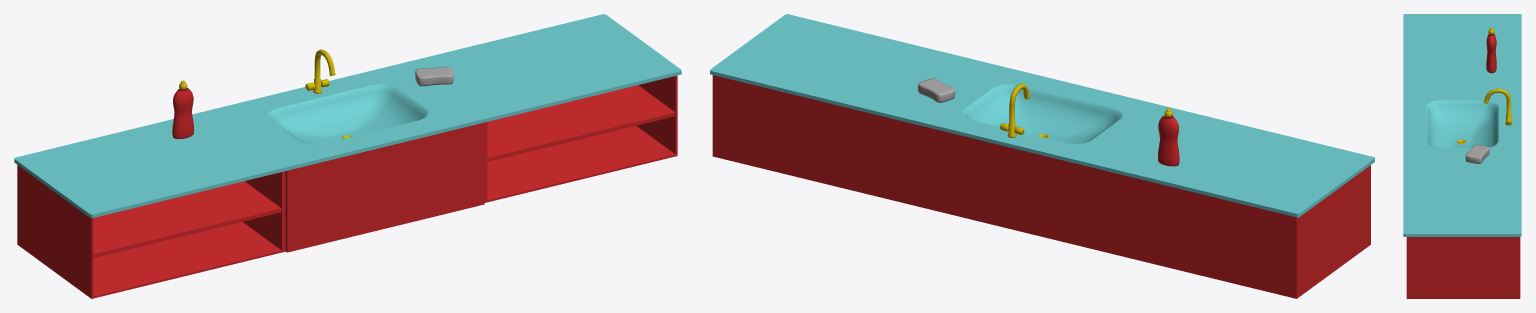
Rendered from bathroom_counter.fbx.
3 views of the same model, side by side, from view 1: azimuth 30°, elevation 25°; view 2: azimuth 150°, elevation 25°; view 3: azimuth 270°, elevation 25° (orthographic). The views are drawn at different scales.
Visible parts, largest first — view 1: HSHP_MOD_Bathroom_counter_01, HSHP_MOD_Washing_liquid, HSHP_MOD_Washing_sponge; view 2: HSHP_MOD_Bathroom_counter_01, HSHP_MOD_Washing_liquid, HSHP_MOD_Washing_sponge; view 3: HSHP_MOD_Bathroom_counter_01, HSHP_MOD_Washing_liquid, HSHP_MOD_Washing_sponge.
Part boxes in pixels (x1=…): HSHP_MOD_Bathroom_counter_01: x1=14, y1=14, x2=681, y2=298; HSHP_MOD_Washing_liquid: x1=172, y1=80, x2=193, y2=138; HSHP_MOD_Washing_sponge: x1=415, y1=66, x2=453, y2=86; HSHP_MOD_Bathroom_counter_01: x1=710, y1=14, x2=1374, y2=298; HSHP_MOD_Washing_liquid: x1=1158, y1=108, x2=1179, y2=166; HSHP_MOD_Washing_sponge: x1=918, y1=78, x2=955, y2=102; HSHP_MOD_Bathroom_counter_01: x1=1403, y1=14, x2=1521, y2=298; HSHP_MOD_Washing_liquid: x1=1486, y1=27, x2=1496, y2=73; HSHP_MOD_Washing_sponge: x1=1465, y1=145, x2=1489, y2=163.
Bounding box in the file's own units: 125 × 28.46 × 28.47.
